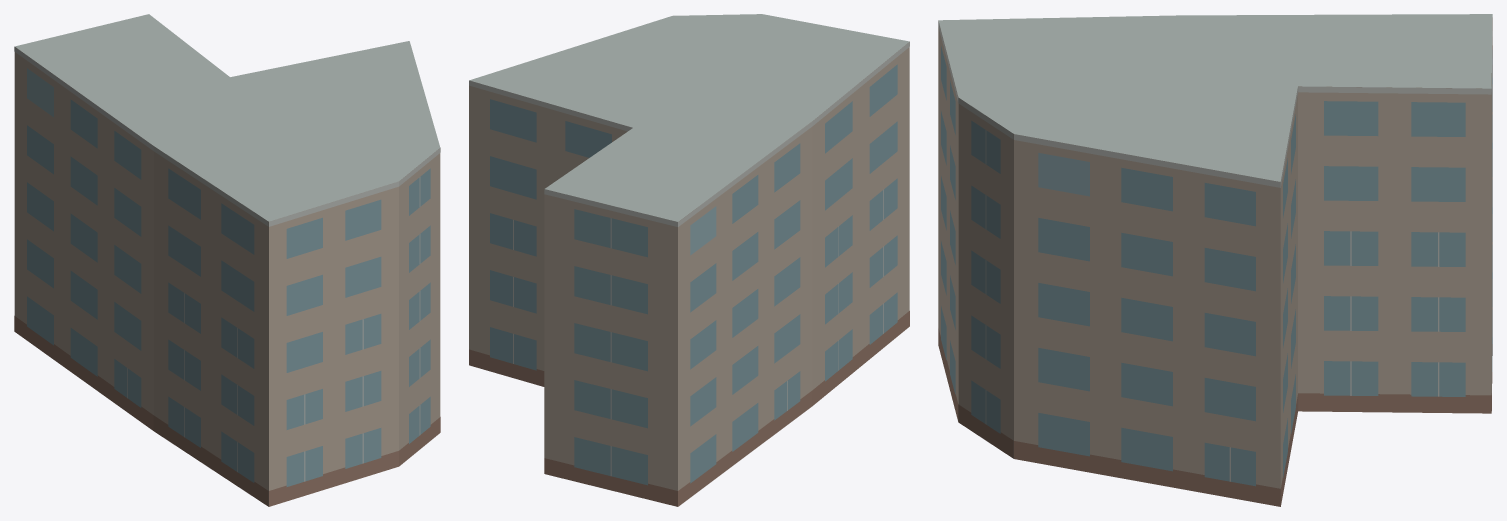
File: survey-upis-33047303.glb
3 renders of one model, left to right at view 1: azimuth 30°, elevation 25°; view 2: azimuth 150°, elevation 25°; view 3: azimuth 270°, elevation 25°, orthographic. The views are drawn at different scales.
Visible parts, largest first — view 1: survey-upis-33047303.tmp; view 2: survey-upis-33047303.tmp; view 3: survey-upis-33047303.tmp.
Boxes of the visible parts, x1,y1,x2,y2 form: survey-upis-33047303.tmp: [14, 14, 440, 506]; survey-upis-33047303.tmp: [469, 14, 909, 506]; survey-upis-33047303.tmp: [938, 14, 1492, 506].
Bounding box in the file's own units: 14.75 × 13.3 × 20.57.
